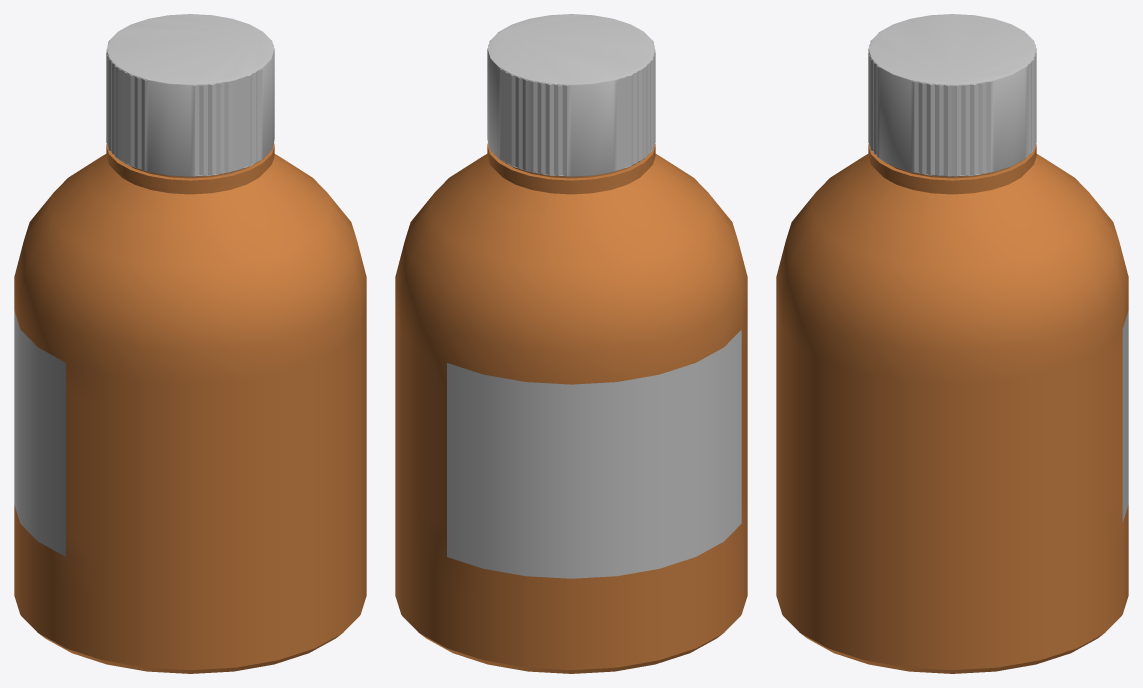
File: Bottle4.fbx
3 views of the same model, side by side, from view 1: azimuth 30°, elevation 25°; view 2: azimuth 150°, elevation 25°; view 3: azimuth 270°, elevation 25° (orthographic).
Parts seen in each view (by area): view 1: 4Bottle_Base, 4Bottle_Top, 4Bottle_Cover; view 2: 4Bottle_Base, 4Bottle_Cover, 4Bottle_Top; view 3: 4Bottle_Base, 4Bottle_Top, 4Bottle_Cover.
Part boxes in pixels (x1=…): 4Bottle_Base: x1=14, y1=143, x2=366, y2=673; 4Bottle_Top: x1=106, y1=14, x2=274, y2=176; 4Bottle_Cover: x1=14, y1=311, x2=65, y2=556; 4Bottle_Base: x1=395, y1=143, x2=747, y2=673; 4Bottle_Cover: x1=447, y1=330, x2=741, y2=578; 4Bottle_Top: x1=487, y1=14, x2=655, y2=176; 4Bottle_Base: x1=776, y1=143, x2=1128, y2=673; 4Bottle_Top: x1=868, y1=14, x2=1036, y2=176; 4Bottle_Cover: x1=1122, y1=311, x2=1128, y2=522.
Bounding box in the file's own units: 4.54 × 7.88 × 4.54.
